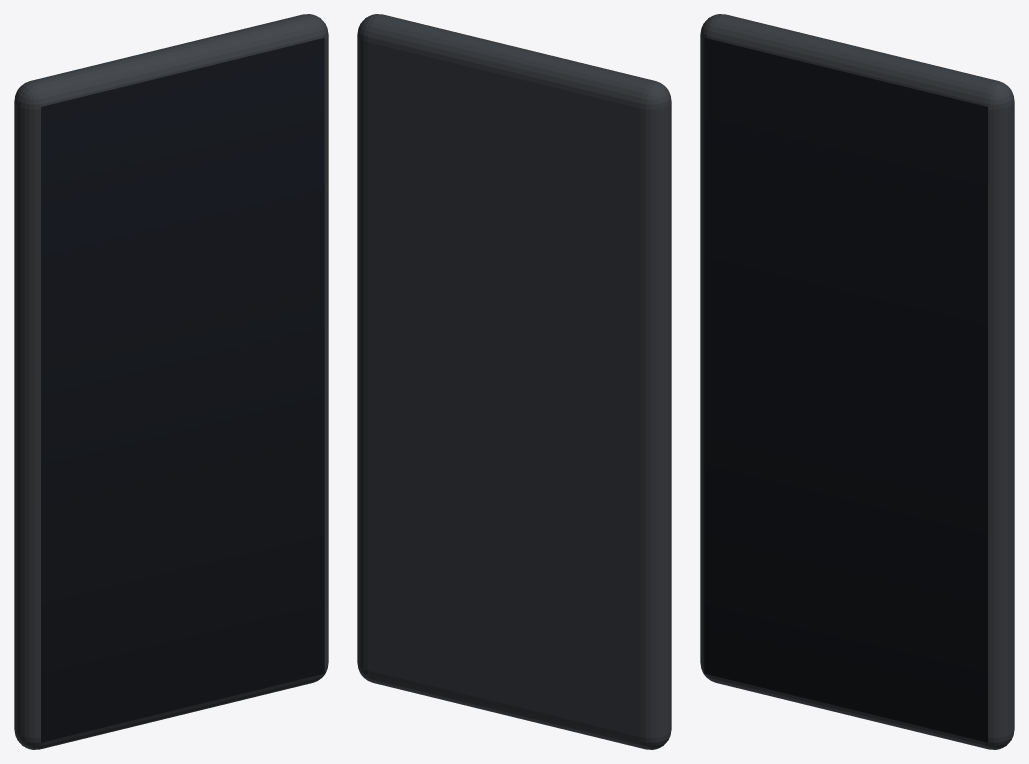
Rendered from placeholder-phone.glb.
3 renders of one model, left to right at view 1: azimuth 30°, elevation 25°; view 2: azimuth 150°, elevation 25°; view 3: azimuth 330°, elevation 25°, orthographic.
Parts seen in each view (by area): view 1: Display, Body; view 2: Body; view 3: Display, Body.
Part boxes in pixels (bbox=[...]): Display: bbox=[41, 38, 324, 742]; Body: bbox=[14, 14, 328, 749]; Body: bbox=[357, 14, 671, 749]; Display: bbox=[704, 38, 987, 742]; Body: bbox=[700, 14, 1014, 749].
Bounding box in the file's own units: 0.0716 × 0.1476 × 0.0087.
Materials: 2 (1 with a texture image).
